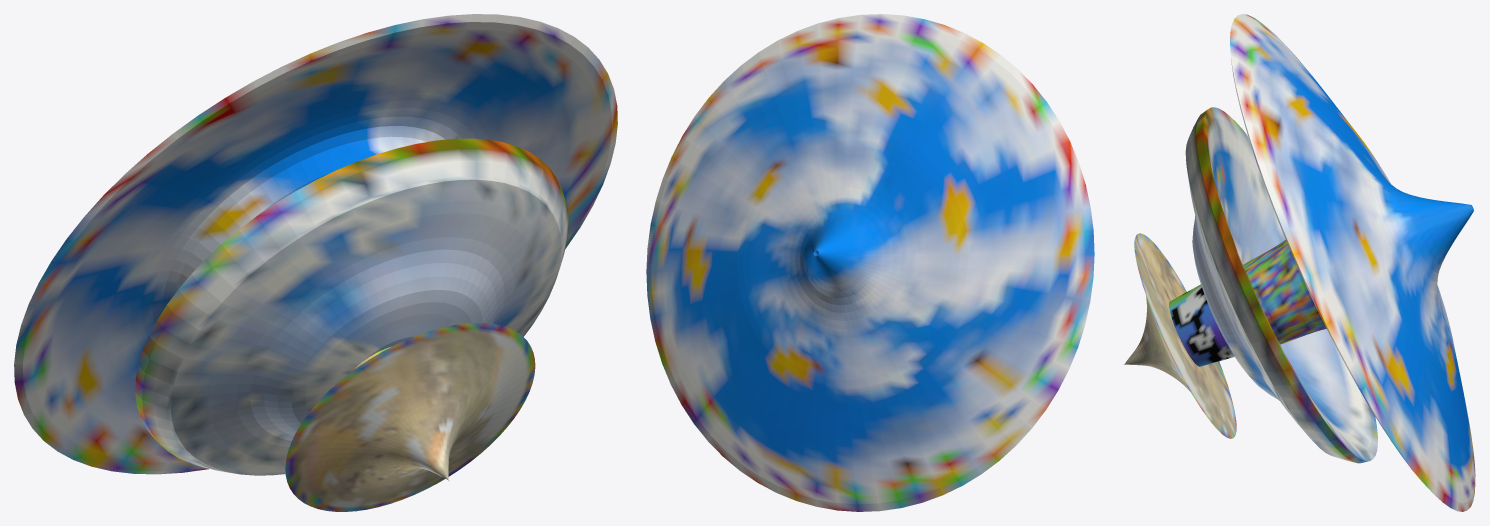
File: april28outdoorpagoda9.glb
3 renders of one model, left to right at view 1: azimuth 30°, elevation 25°; view 2: azimuth 150°, elevation 25°; view 3: azimuth 270°, elevation 25°, orthographic. The views are drawn at different scales.
Parts seen in each view (by area): view 1: Lathe 4, Lathe 3, Lathe; view 2: Lathe 4; view 3: Lathe 4, Lathe 3, Lathe, Lathe.001.
Part boxes in pixels (x1,y1,x2,y2): Lathe 4: (14,14,617,474); Lathe 3: (135,138,568,475); Lathe: (285,322,535,511); Lathe 4: (646,14,1094,511); Lathe 4: (1230,14,1475,511); Lathe 3: (1185,107,1377,463); Lathe: (1123,233,1236,438); Lathe.001: (1169,284,1234,366).
Size of the model in its own units: 3.74 by 3.34 by 2.41.
